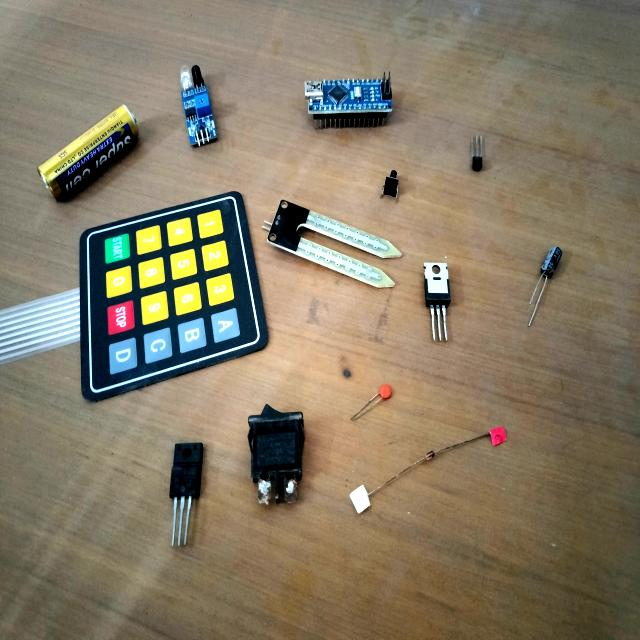capacitor: (541, 247, 562, 279), (378, 384, 392, 401)
